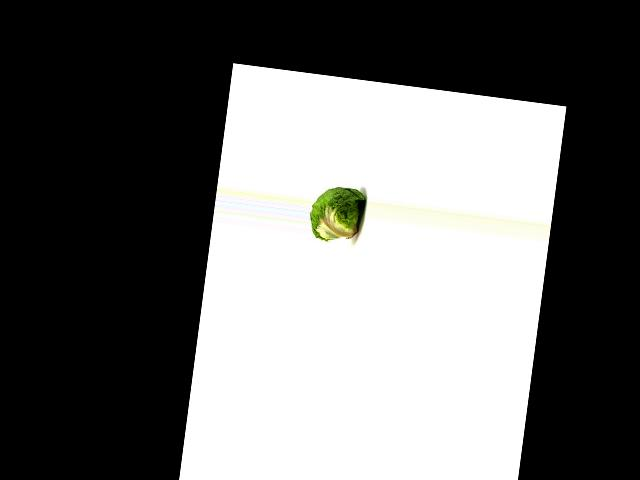lettuce: (307, 182, 369, 247)
